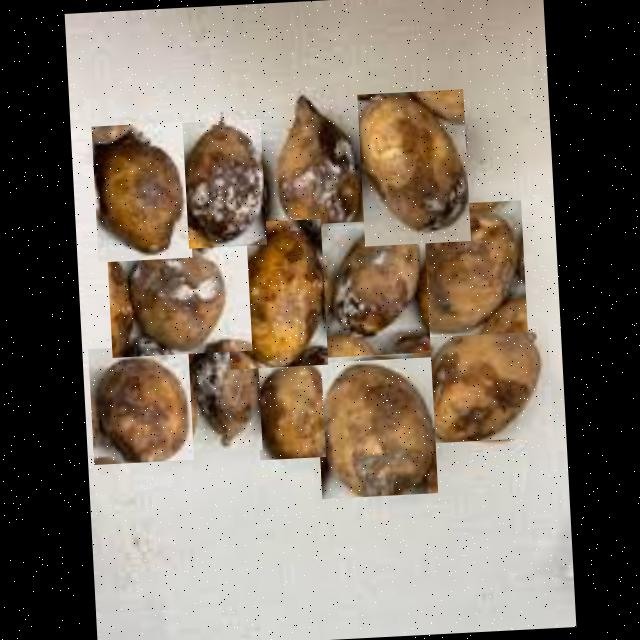Damaged potato: (106, 234, 252, 357), (356, 88, 470, 245), (398, 200, 527, 338), (410, 320, 552, 443), (314, 356, 437, 498), (267, 85, 369, 252), (309, 218, 430, 358), (222, 218, 328, 369), (90, 120, 192, 262), (87, 343, 193, 464), (181, 118, 266, 248), (180, 334, 262, 454), (254, 356, 325, 459)
